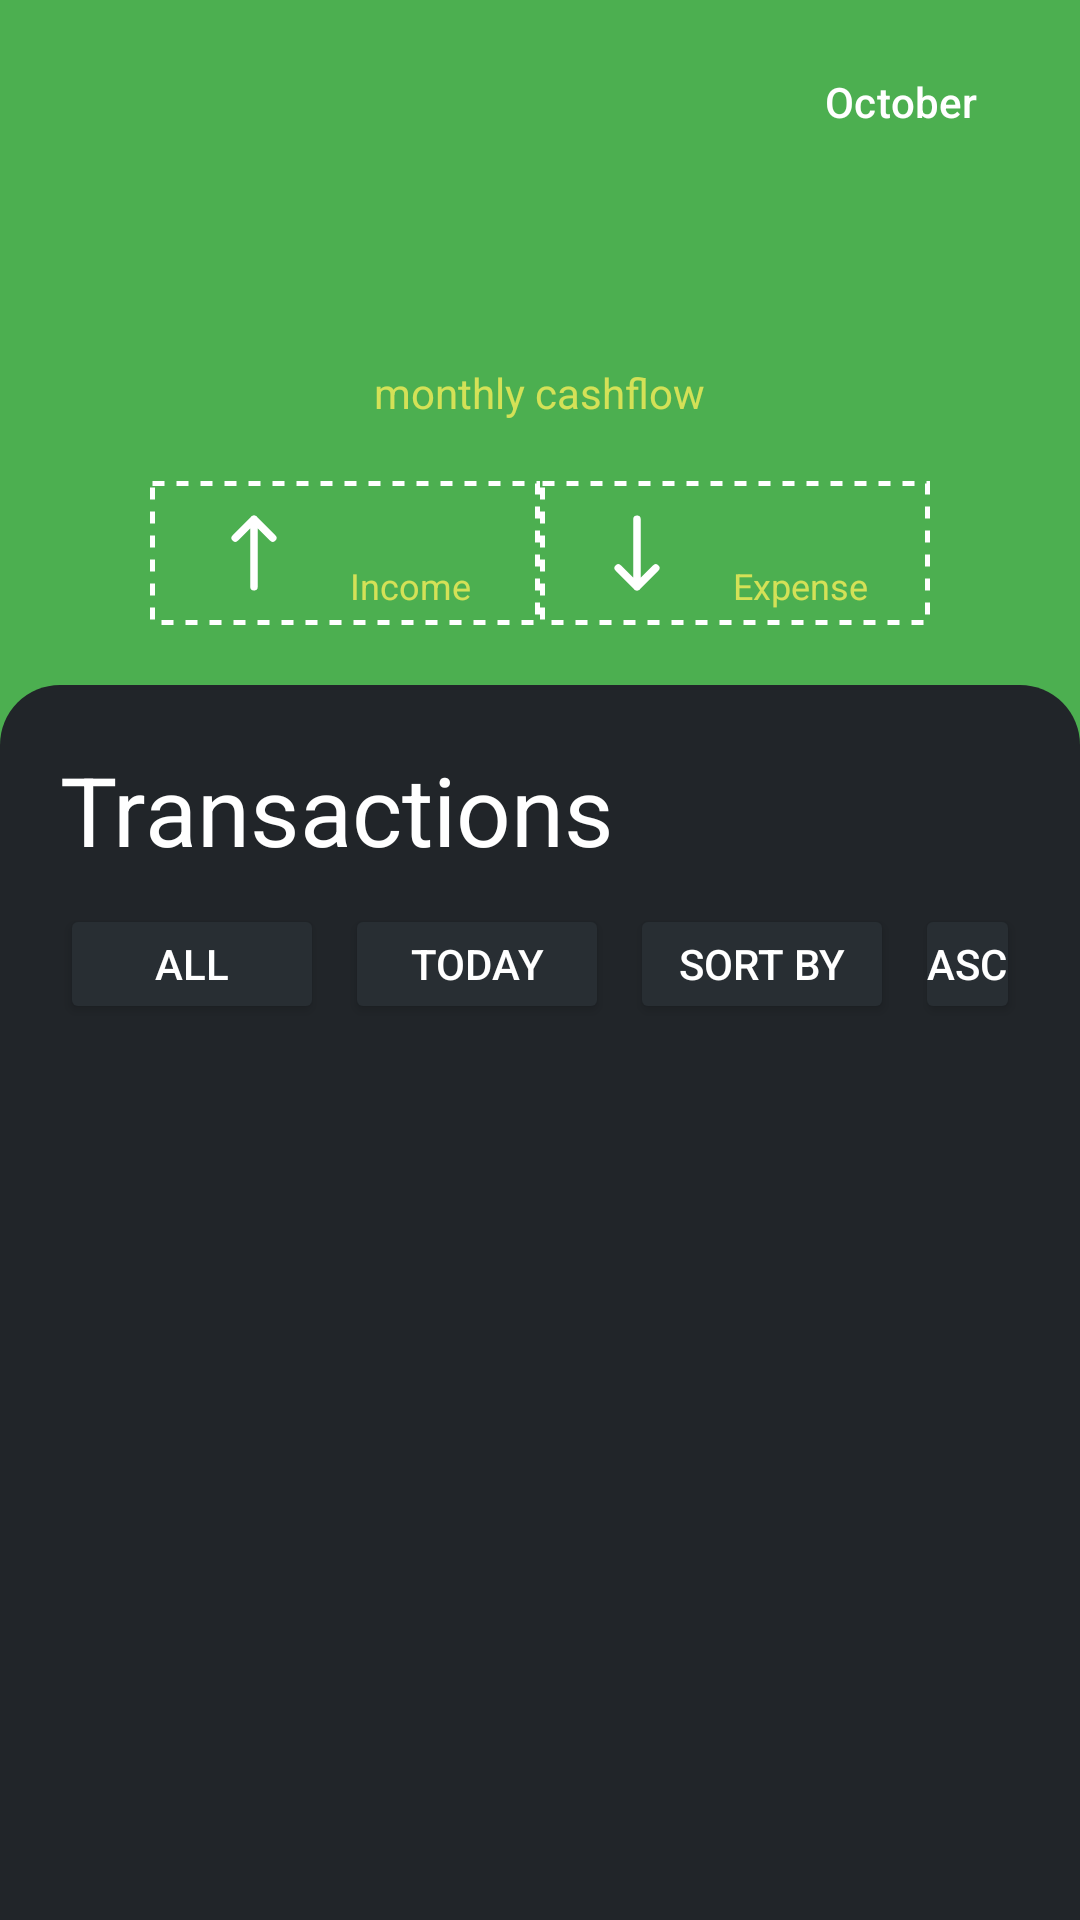

Named icons in this screenshot (1080px×1920px) and their bounding boxes, rect(x1, y1, x2, y2):
arrow down: rect(614, 515, 660, 591)
arrow up: rect(231, 515, 277, 591)
